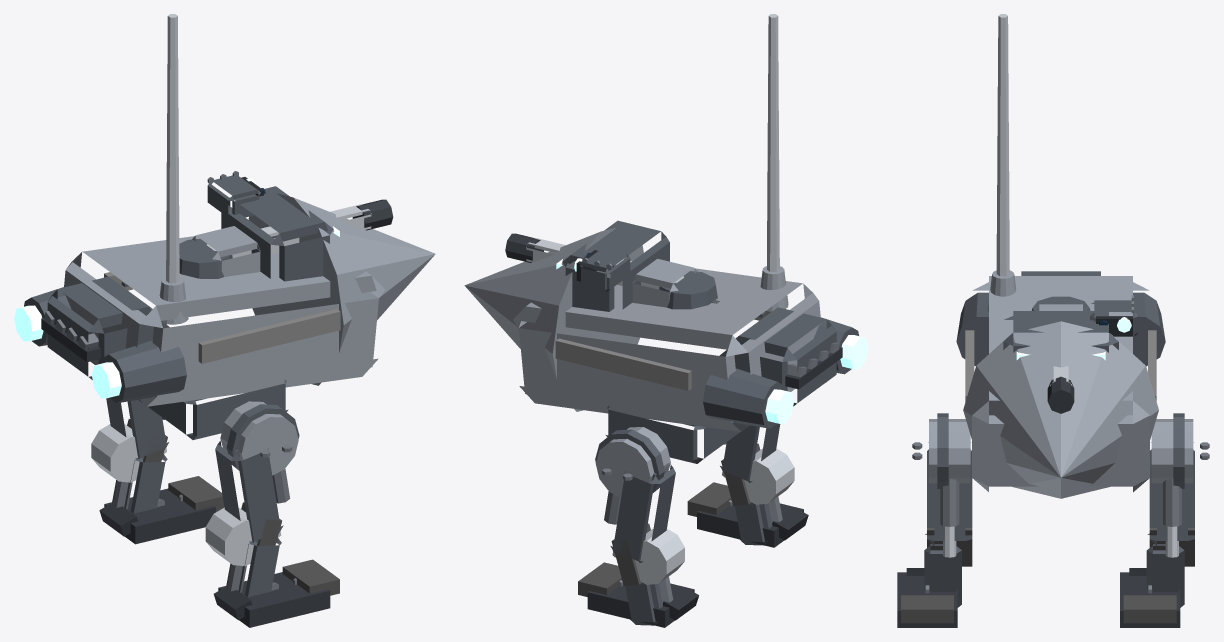
File: scout.glb
The picture shows the model from 3 angles, left to right: view 1: azimuth 30°, elevation 25°; view 2: azimuth 150°, elevation 25°; view 3: azimuth 270°, elevation 25°; orthographic projection. The views are drawn at different scales.
Parts seen in each view (by area): view 1: body, turret; view 2: body, turret; view 3: body, turret.
Part boxes in pixels (x1,y1,x2,y2): body: [14, 14, 435, 627]; turret: [179, 199, 393, 278]; body: [464, 14, 868, 627]; turret: [505, 233, 717, 309]; body: [897, 14, 1209, 627]; turret: [1031, 296, 1090, 413].
Bounding box in the file's own units: 15.12 × 22.53 × 11.23.
